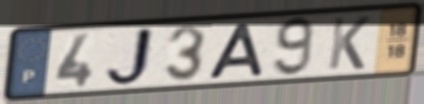3: (164, 24, 207, 84)
4: (52, 31, 95, 90)
9: (269, 14, 317, 80)
A: (205, 21, 267, 81)
J: (102, 25, 157, 89)
K: (325, 15, 373, 72)
